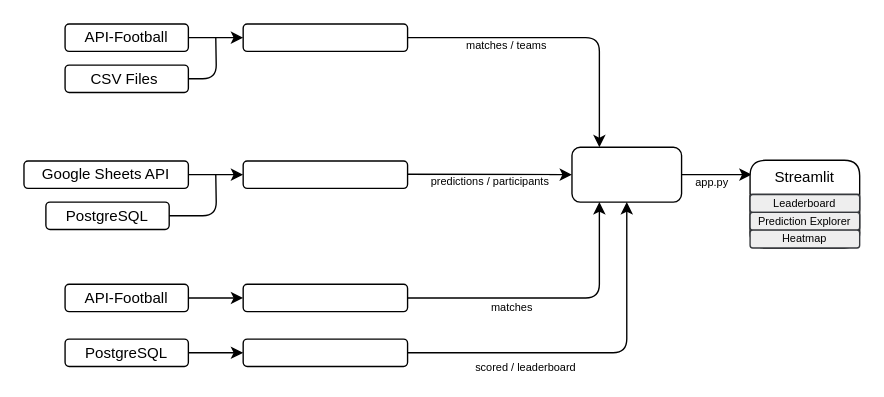
The diagram is 884 pixels wide and 397 high, and some of its shapes have lost their labels. Here are the shapes that lost their labels. From the top down, the centre of each, then its label:
At point (325, 37): "matches_pipeline".
At point (325, 174): "predictions_pipeline".
At point (626, 174): "PostgreSQL (Neon DB)".
At point (325, 297): "update_results".
At point (325, 352): "scoring pipeline".
